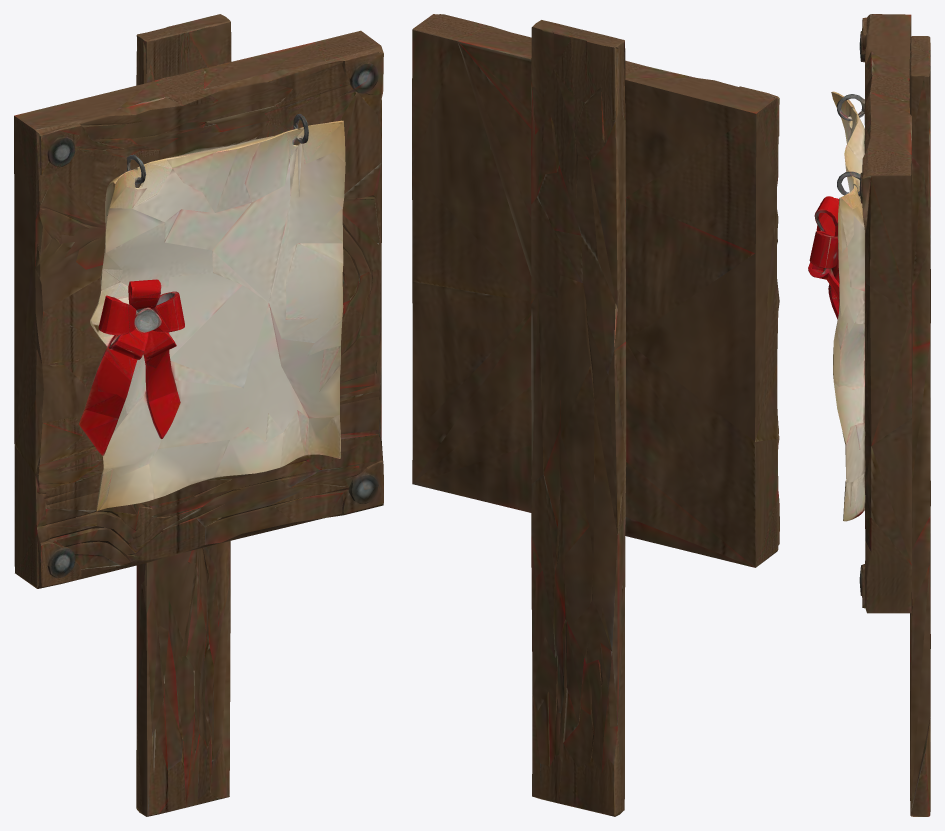
The model's file is sign.glb.
3 renders of one model, left to right at view 1: azimuth 30°, elevation 25°; view 2: azimuth 150°, elevation 25°; view 3: azimuth 270°, elevation 25°, orthographic. The views are drawn at different scales.
Size of the model in its own units: 0.8889 by 1.9 by 0.2852.
Materials: 1 (1 with a texture image).
